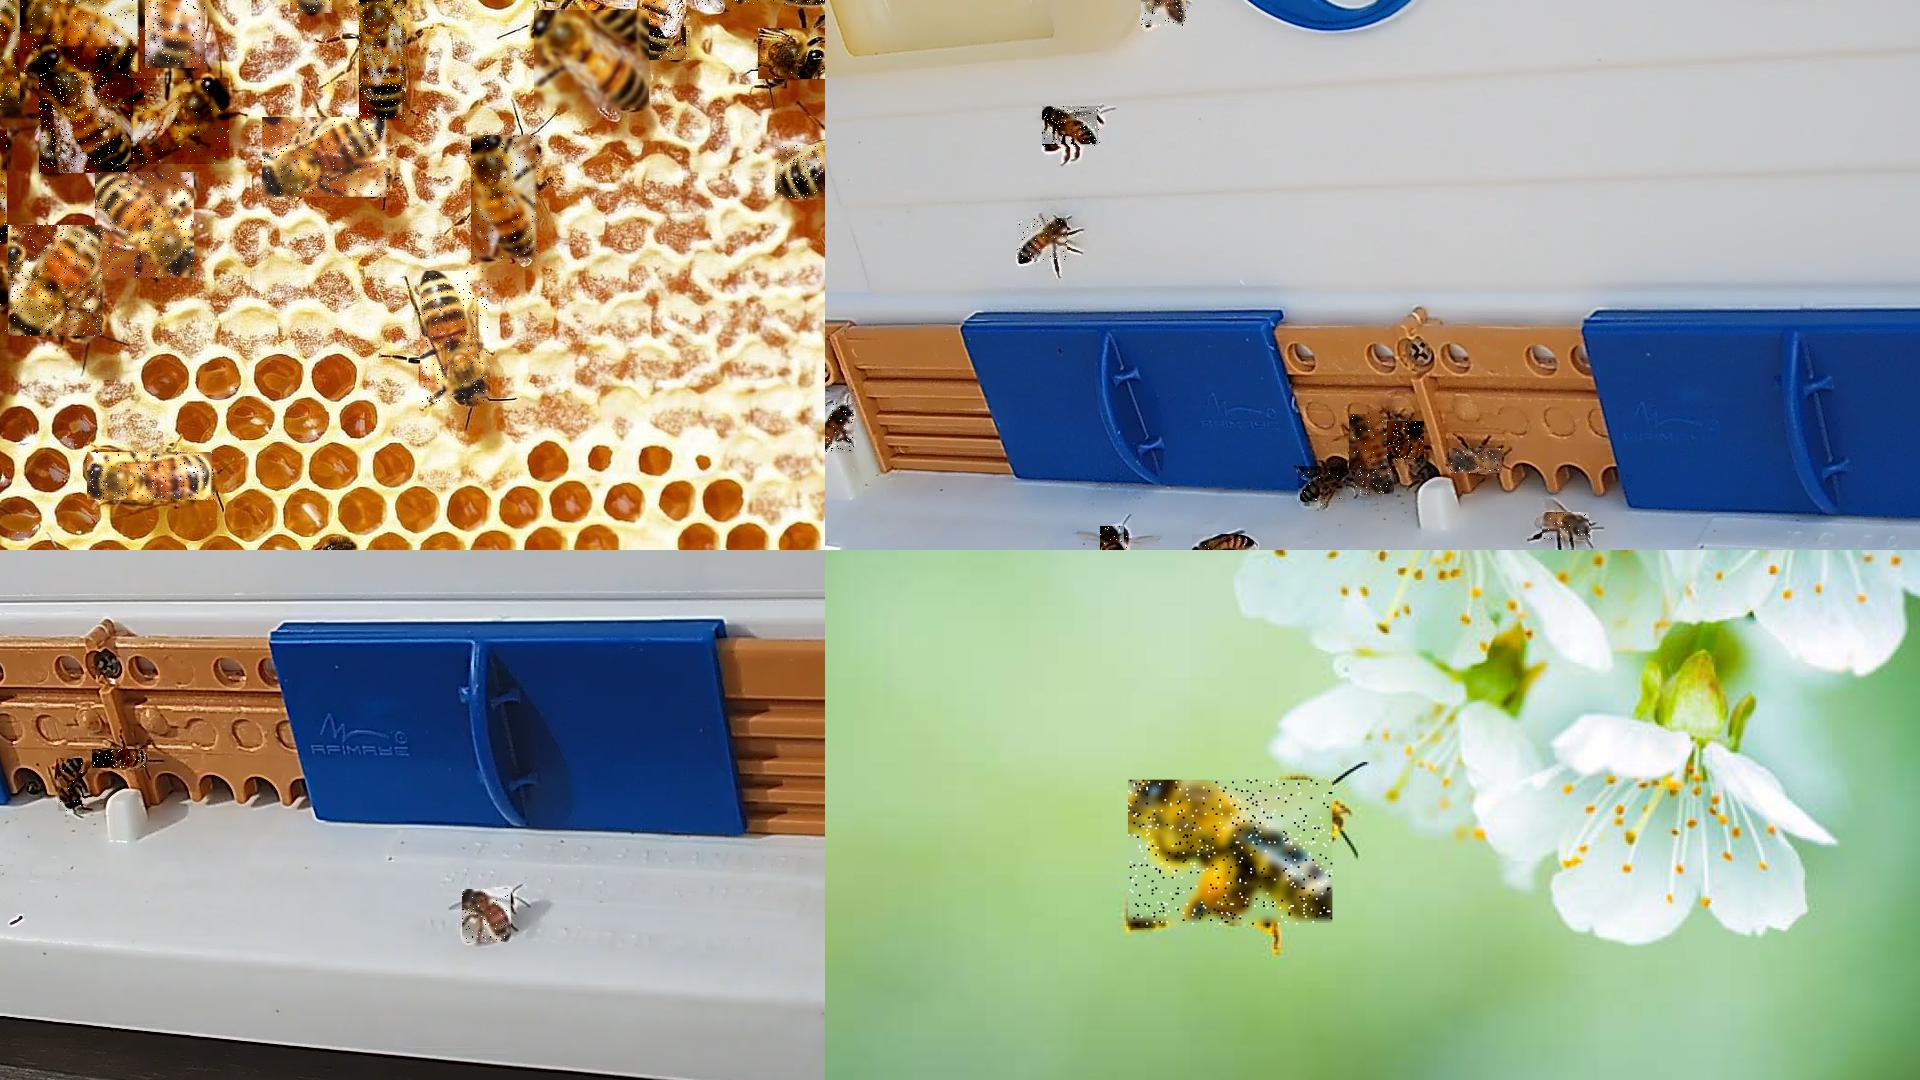bee: (40, 49, 133, 174), (534, 11, 650, 111), (95, 173, 195, 280), (8, 225, 103, 338), (262, 117, 390, 198), (113, 78, 231, 165), (18, 0, 142, 76), (421, 272, 491, 405), (472, 136, 541, 262), (88, 452, 216, 501), (359, 0, 407, 124), (535, 0, 644, 49), (145, 0, 207, 70), (758, 28, 824, 82), (637, 0, 691, 62), (462, 889, 512, 943), (775, 145, 824, 200), (1043, 107, 1102, 149), (0, 0, 22, 109), (1017, 219, 1068, 262), (1350, 414, 1387, 471), (1298, 467, 1348, 506), (1387, 422, 1425, 463), (825, 404, 856, 455), (1449, 448, 1503, 475), (1543, 513, 1590, 541), (0, 273, 15, 351), (1356, 469, 1395, 496), (1192, 534, 1261, 549), (700, 0, 824, 7), (1100, 526, 1129, 549), (290, 0, 334, 15)
pollenbee: (1129, 781, 1335, 928), (58, 758, 83, 815), (1141, 0, 1188, 28), (92, 749, 148, 769)
